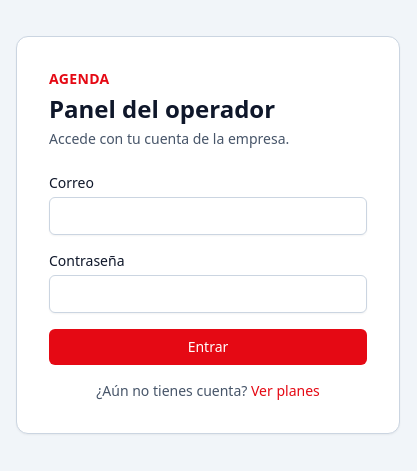
LoginPage › valida correo y contraseña antes de enviar
This screenshot has width=417, height=471.
Step 1. Click the button "Entrar" → [208, 347], box left=49, top=329, right=367, bottom=365
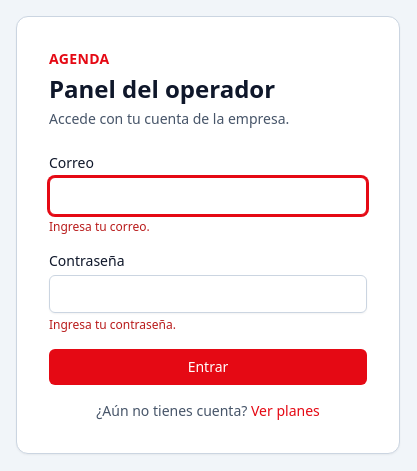
Now the text "Ingresa tu correo." is shown, box left=49, top=218, right=150, bottom=235
Now the text "Ingresa tu contraseña." is shown, box left=49, top=316, right=176, bottom=333
